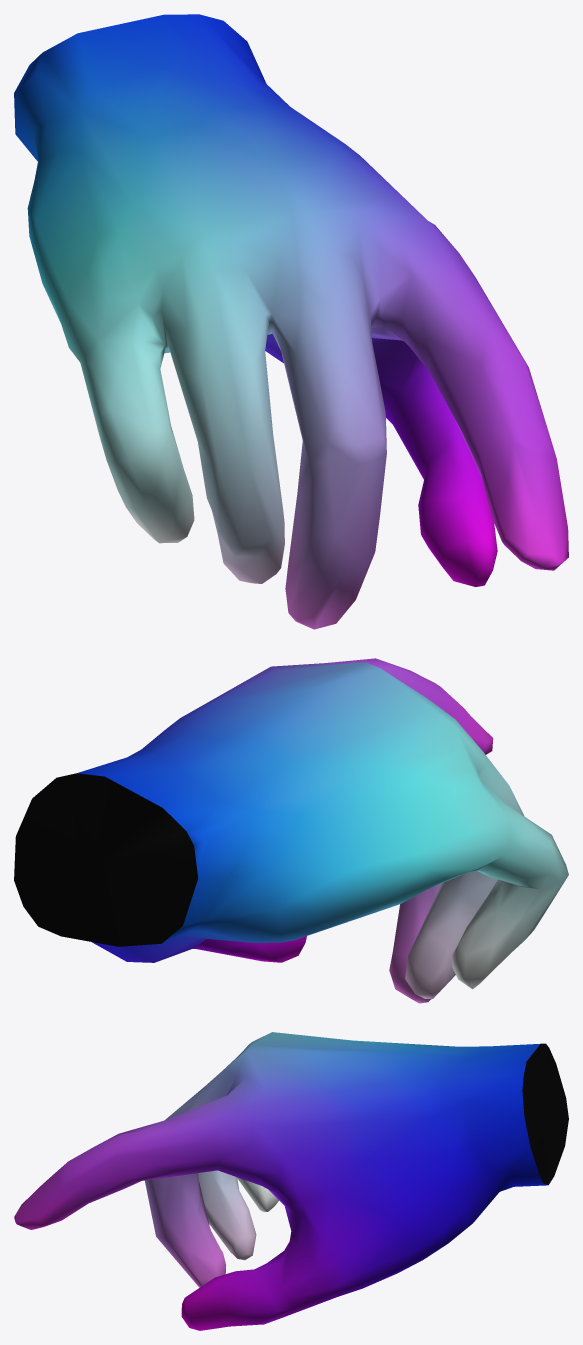
The model's file is righthand.fbx.
3 renders of one model, top to bottom at view 1: azimuth 30°, elevation 25°; view 2: azimuth 150°, elevation 25°; view 3: azimuth 270°, elevation 25°, orthographic. The views are drawn at different scales.
Visible parts, largest first — view 1: hands:Rhand; view 2: hands:Rhand; view 3: hands:Rhand.
Part boxes in pixels (x1,y1,x2,y2): hands:Rhand: (14,14,568,629); hands:Rhand: (14,658,568,1003); hands:Rhand: (14,1032,568,1330).
Size of the model in its own units: 4.28 by 3.89 by 7.53.
